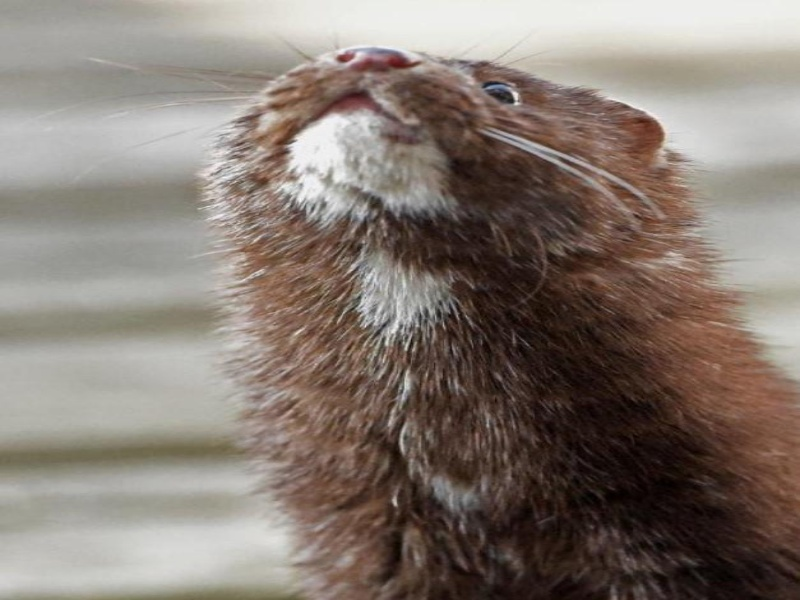minkish: (195, 35, 797, 596)
